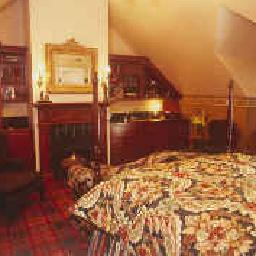Cama: (89, 150, 255, 253)
